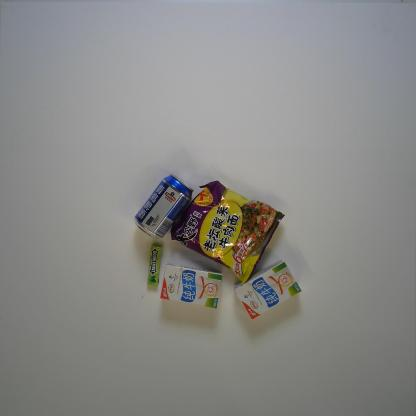Alcohol: (133, 173, 194, 240)
Gum: (146, 244, 163, 288)
Instant Noodles: (169, 180, 287, 284)
Milk: (233, 258, 303, 320), (159, 262, 224, 310)
